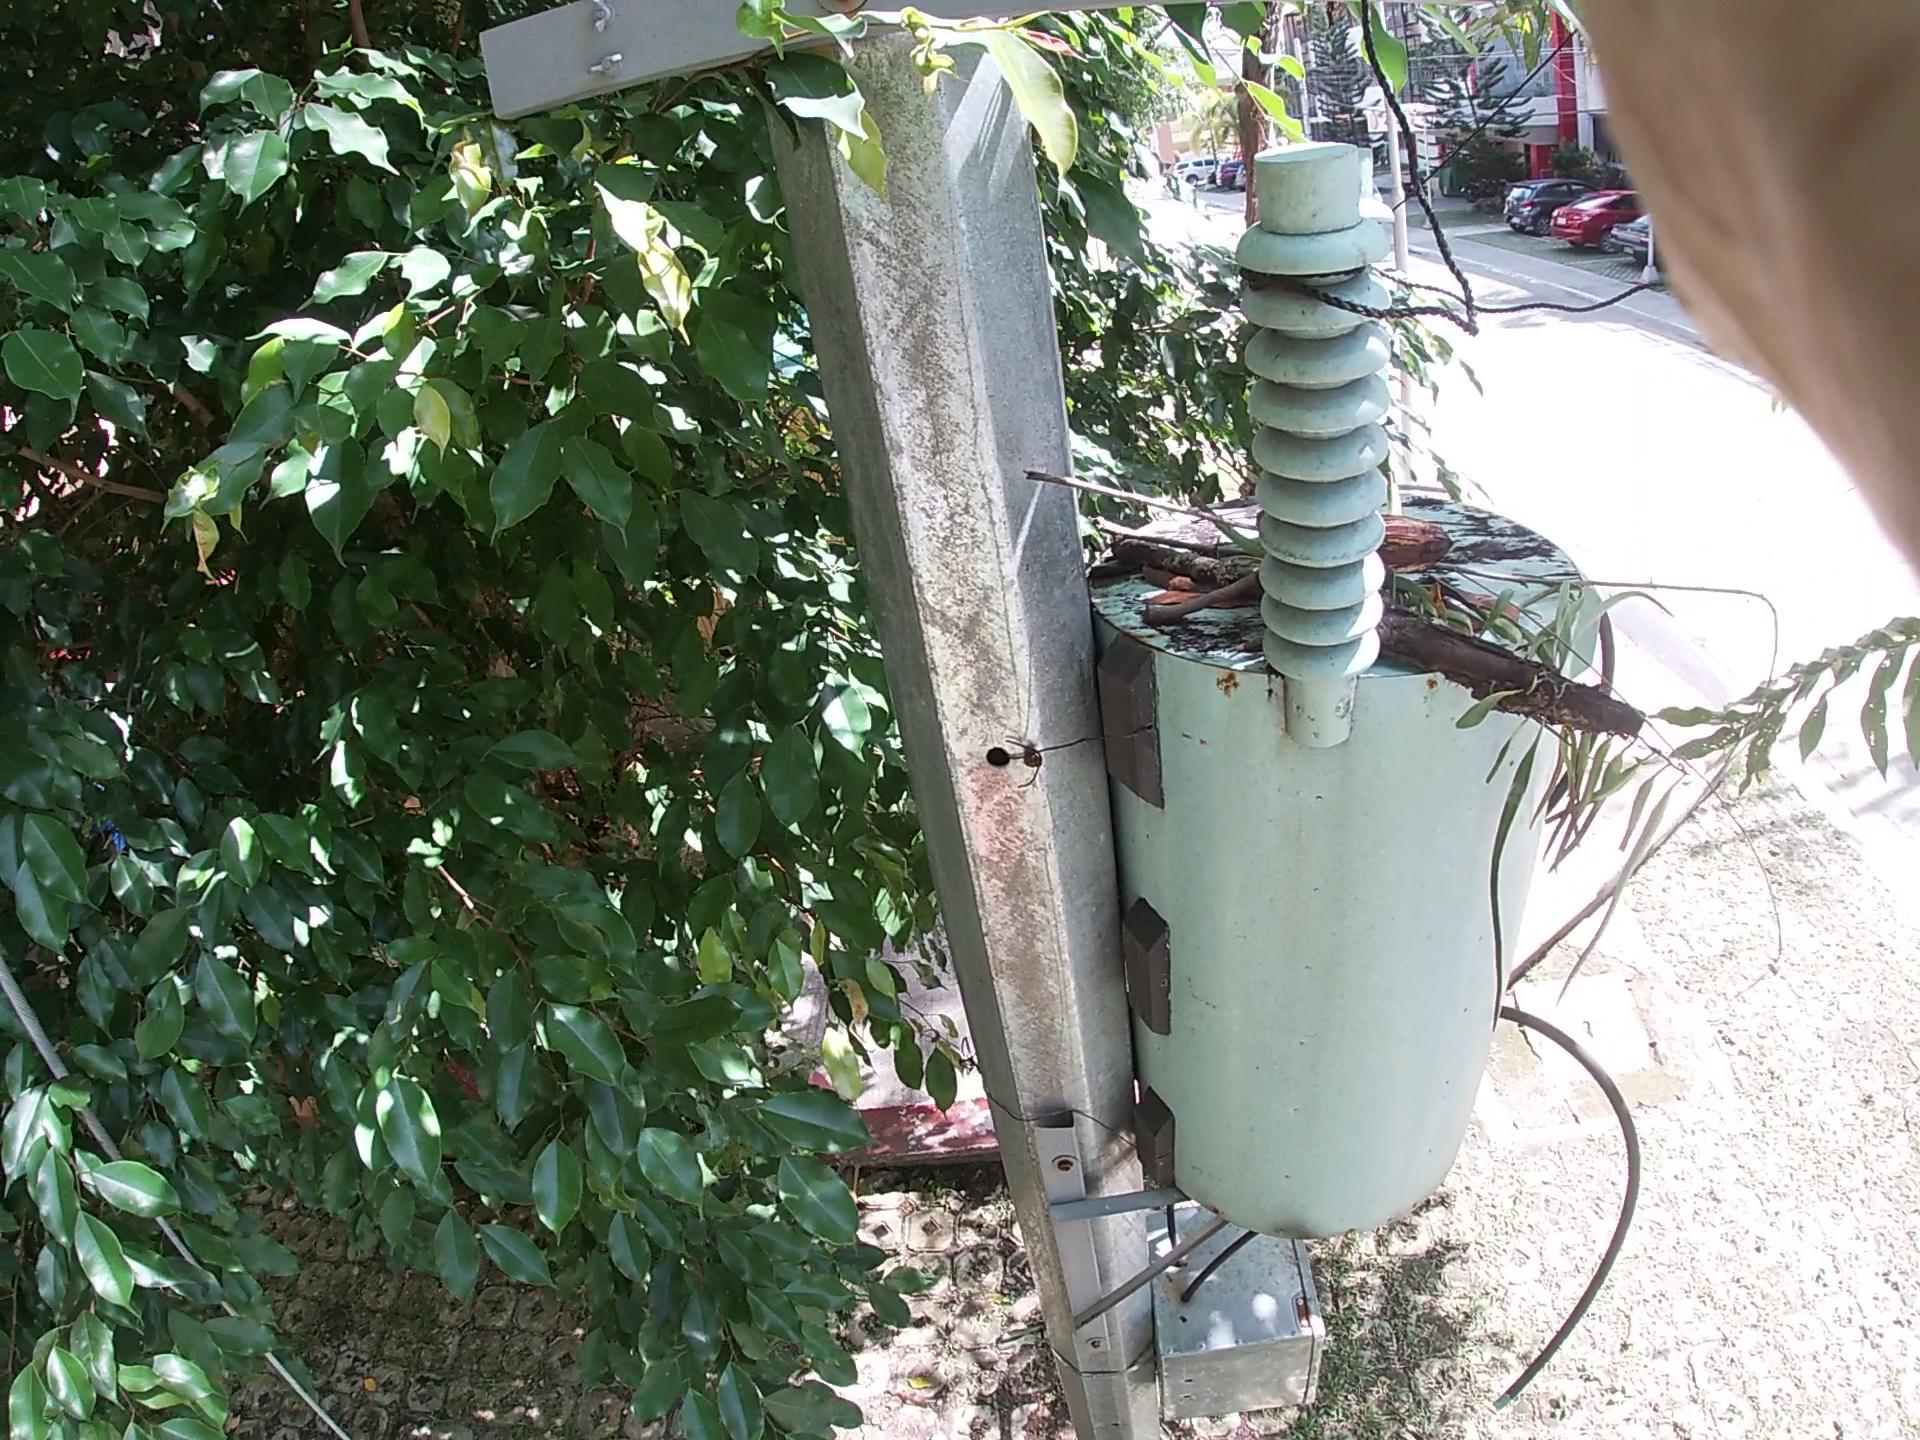branch with leaves: (1104, 537, 1640, 781)
leaf: (1134, 540, 1256, 641)
mahogany fruit: (1305, 475, 1488, 576)
tree branch: (1019, 452, 1240, 546), (1157, 579, 1277, 622)
